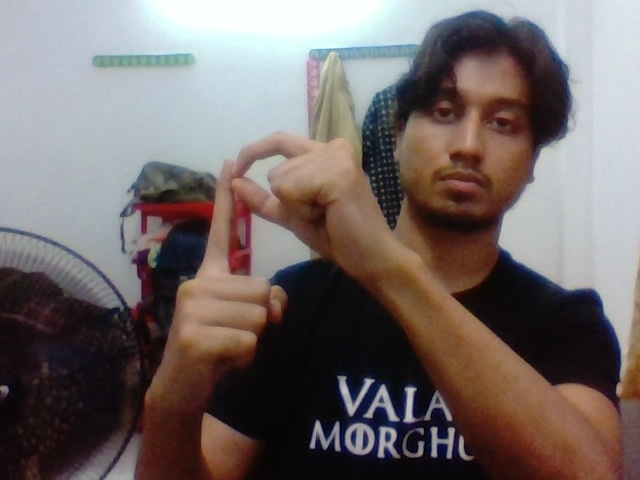P: (179, 118, 356, 361)
